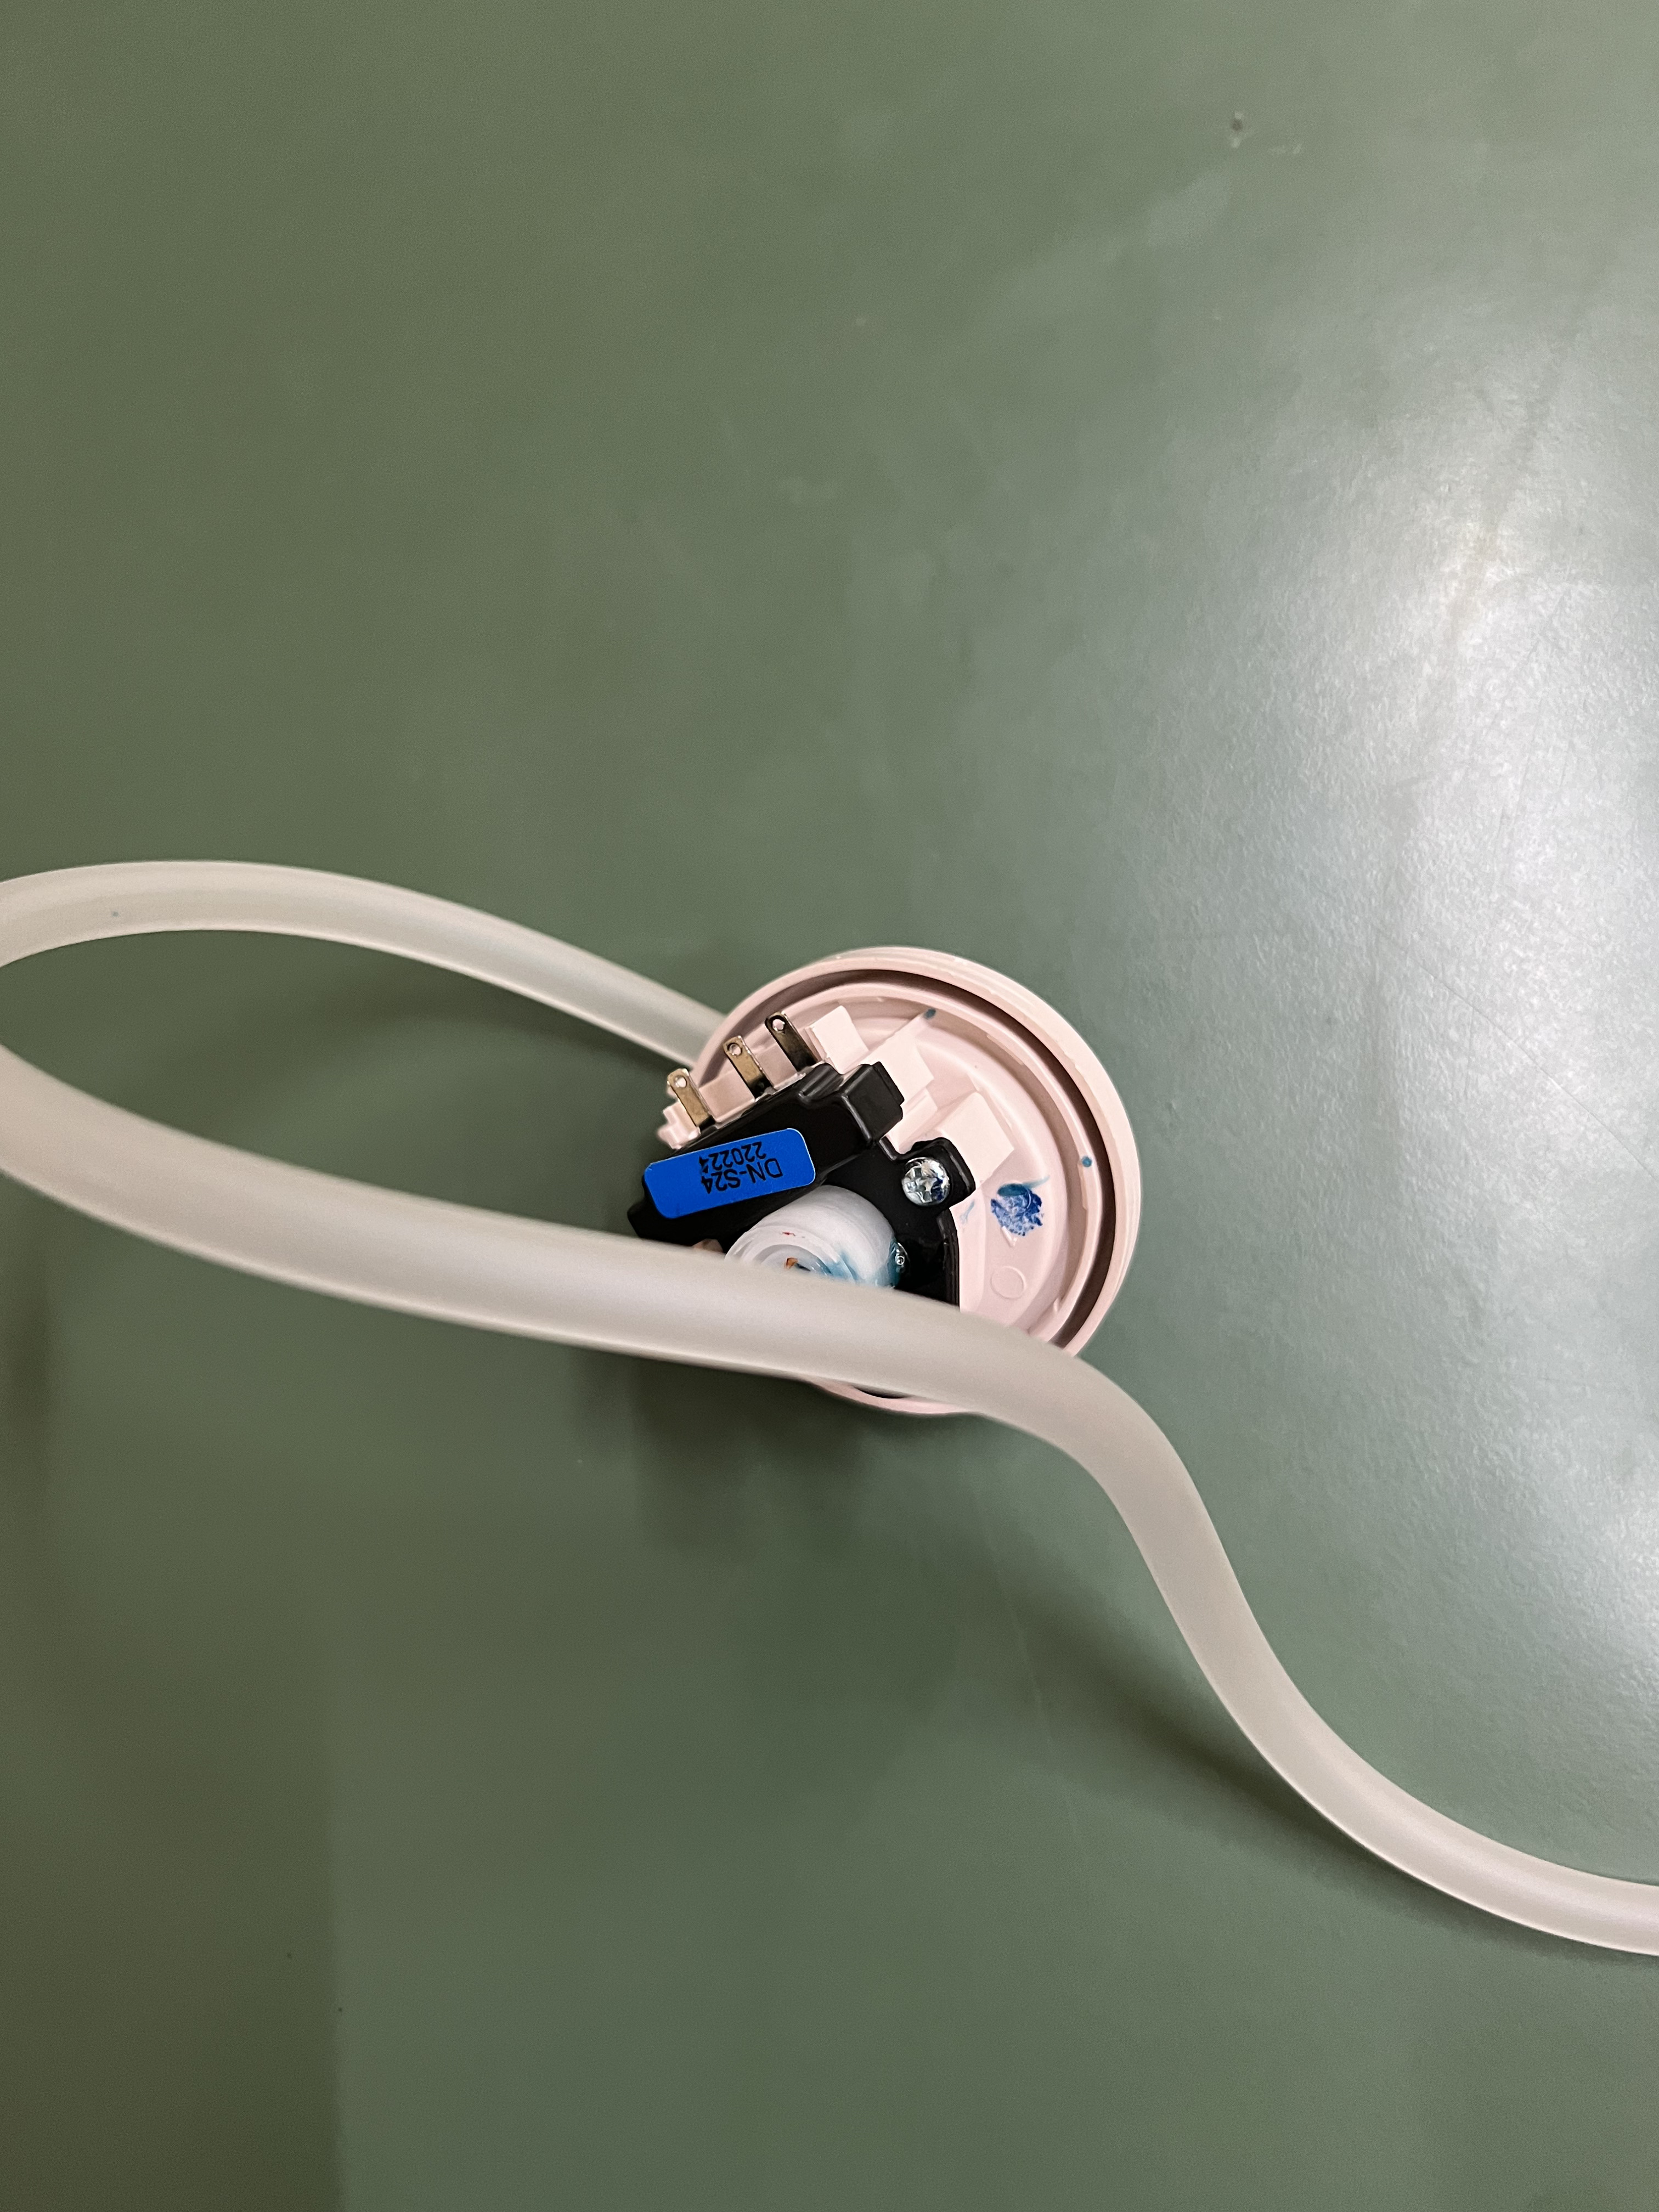pressure_sensor: (0, 813, 1274, 1503)
